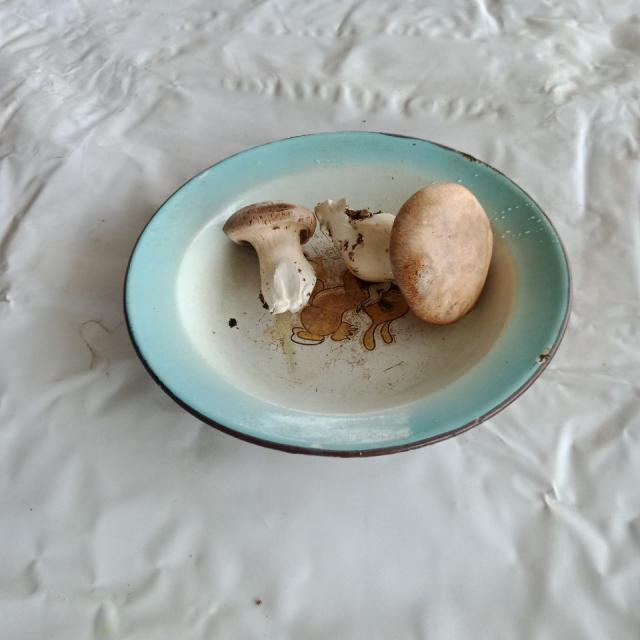Pleurotus cystidiosus: (318, 183, 494, 321), (227, 202, 318, 317)
